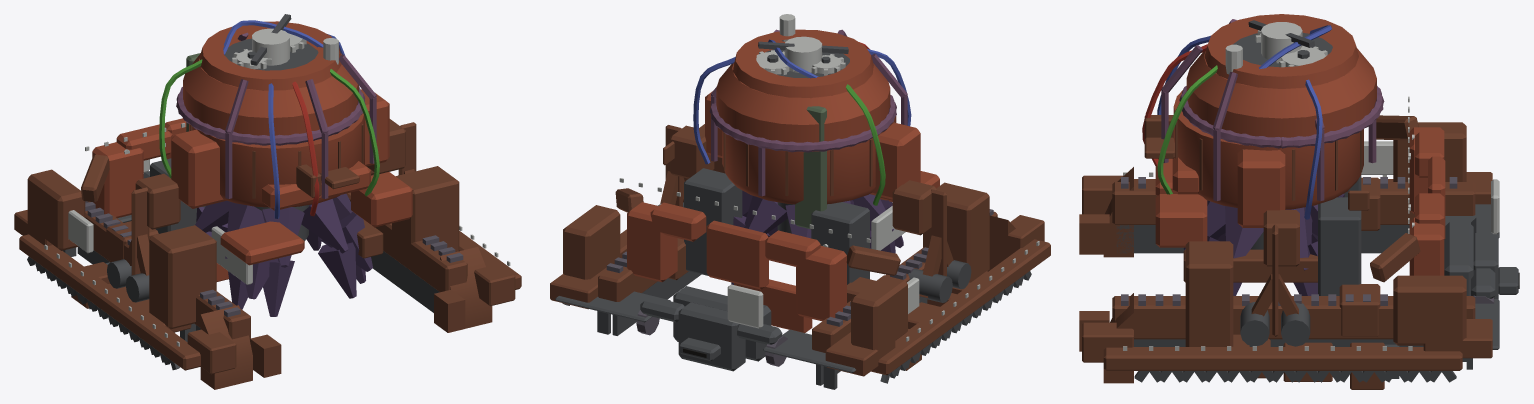
Rendered from big-mining-drill.glb.
3 views of the same model, side by side, from view 1: azimuth 30°, elevation 25°; view 2: azimuth 150°, elevation 25°; view 3: azimuth 270°, elevation 25° (orthographic). The views are drawn at different scales.
Parts seen in each view (by area): view 1: body, anim_spin_drill; view 2: body, anim_spin_drill; view 3: body, anim_spin_drill.
Boxes of the visible parts, bbox=[...] form: body: bbox=[14, 14, 521, 389]; anim_spin_drill: bbox=[195, 193, 372, 316]; body: bbox=[550, 14, 1050, 389]; anim_spin_drill: bbox=[731, 190, 903, 284]; body: bbox=[1079, 14, 1519, 389]; anim_spin_drill: bbox=[1183, 193, 1344, 295].
Size of the model in its own units: 4.88 by 3.63 by 5.09.
